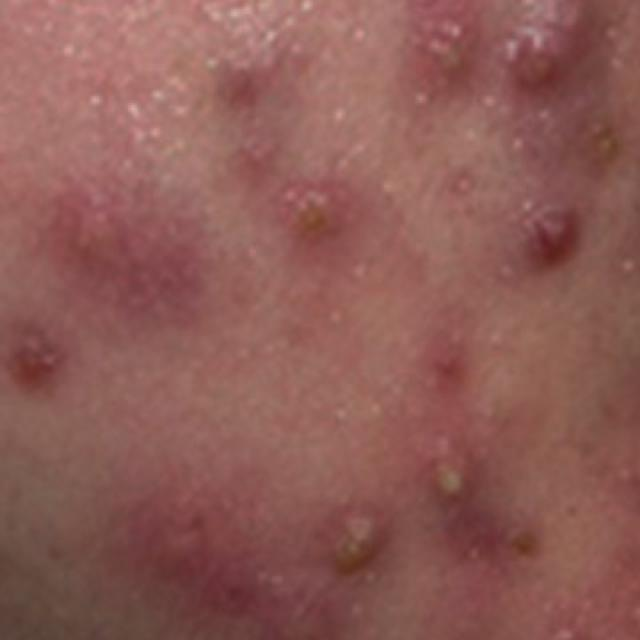acne: (276, 410, 556, 576), (380, 0, 636, 169), (103, 502, 247, 628), (196, 26, 311, 160), (212, 186, 392, 266), (506, 186, 604, 286), (0, 295, 103, 384)
